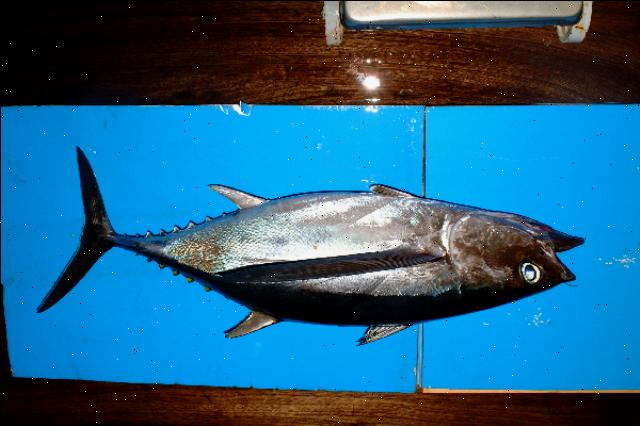Mulut: (530, 210, 604, 300)
Sirip Anal: (201, 170, 279, 222)
Sirip Dada: (194, 234, 458, 292)
Sirip Ekor: (25, 138, 125, 322)
Sirip Perut: (358, 170, 428, 212)
Sirip Punggung: (211, 294, 421, 356)
